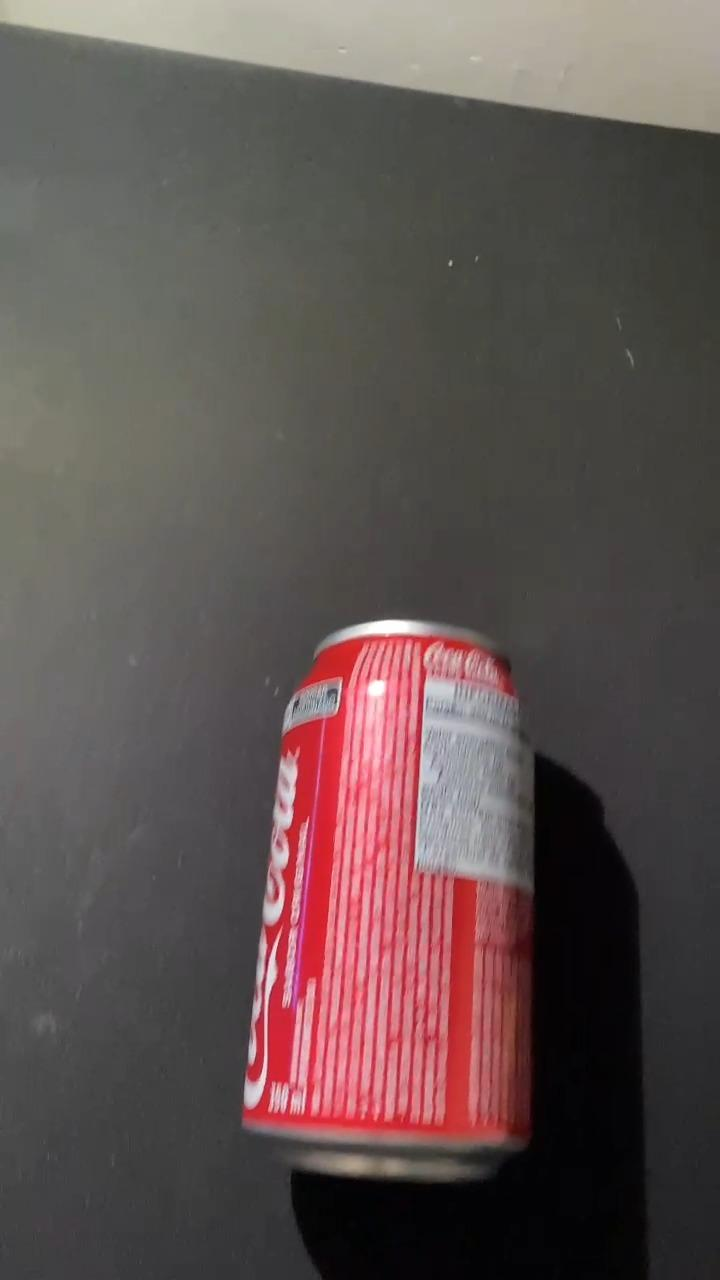coke: (240, 618, 540, 1184)
